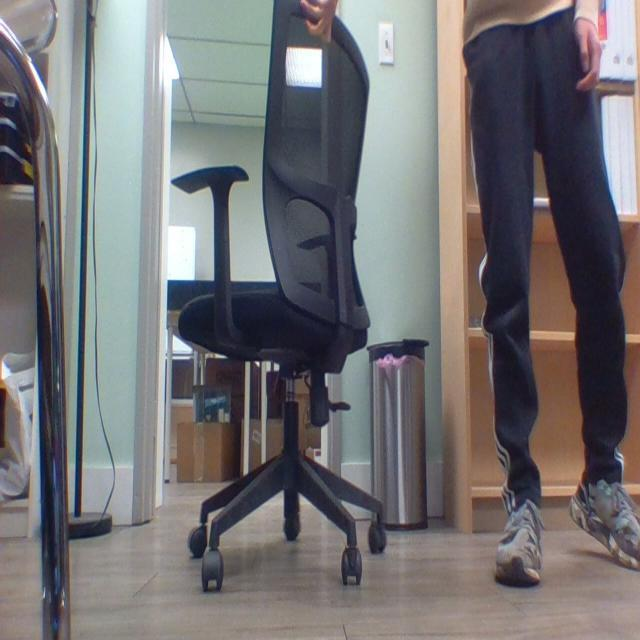chair: (152, 1, 394, 591)
